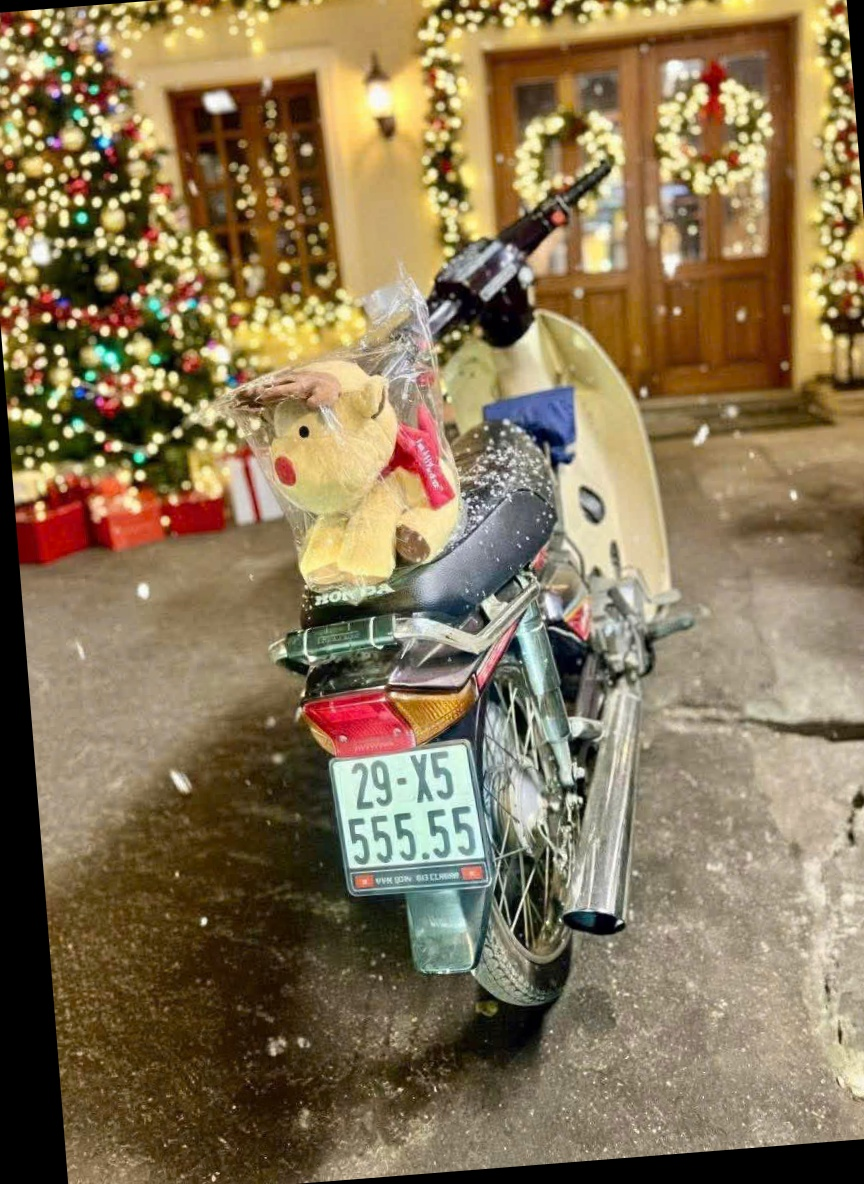Bien-so: (265, 721, 432, 855)
